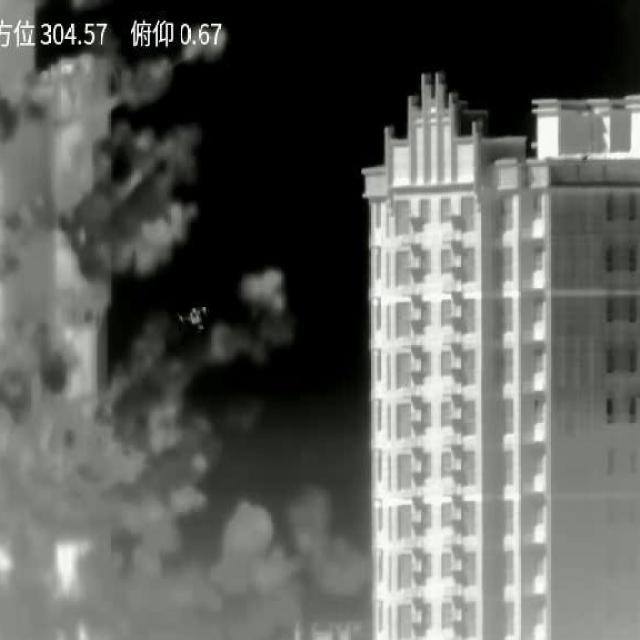drone: (179, 307, 206, 330)
